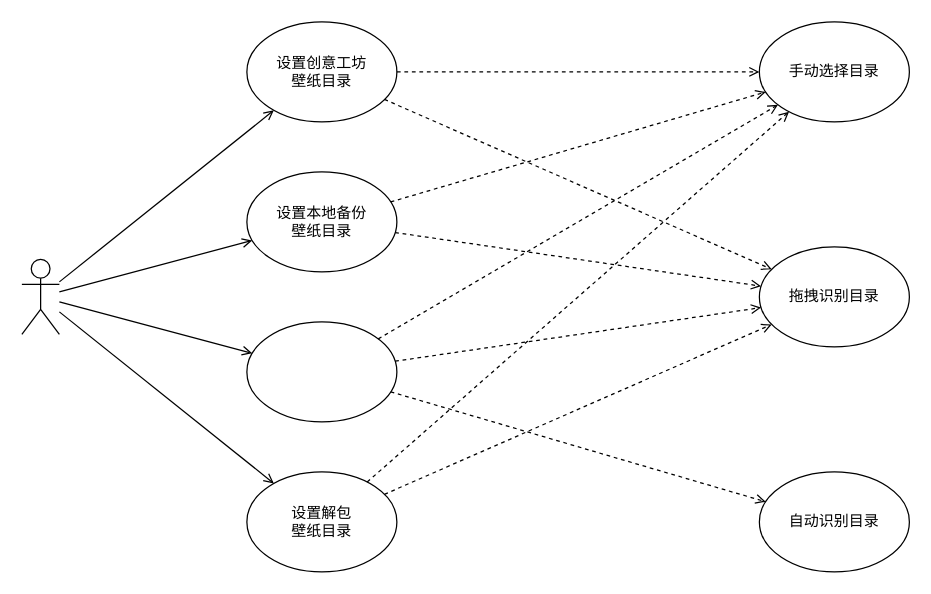
This 931x594 diagram has some shape labels left out. Each missing label, with the centre of its shape:
"用户" belongs at point (40, 296).
"设置官方备份 壁纸目录" belongs at point (321, 371).
